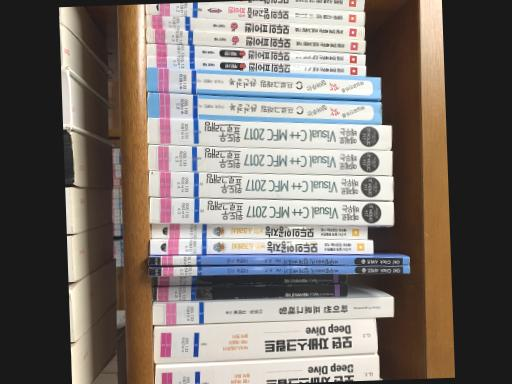book-spine: (153, 318, 376, 363), (145, 65, 380, 99), (146, 118, 390, 150), (145, 92, 380, 123), (147, 146, 391, 175), (148, 196, 392, 224), (152, 296, 393, 324), (147, 172, 392, 199), (153, 357, 379, 384), (144, 2, 363, 26), (145, 29, 364, 53), (144, 15, 363, 38), (145, 44, 365, 65), (145, 55, 365, 76), (148, 239, 372, 254), (151, 284, 346, 301), (150, 225, 366, 239), (147, 266, 408, 276), (151, 275, 345, 286), (198, 0, 363, 12), (148, 257, 408, 264)
